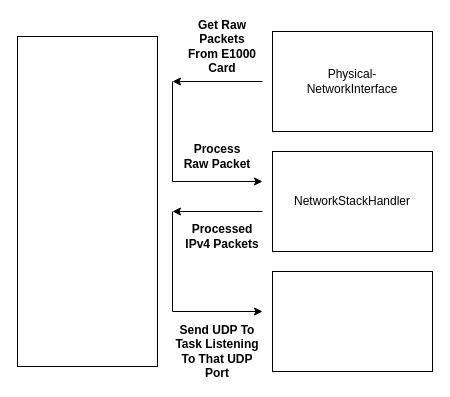
Some shapes in this 450 by 397 pixel diagram are drawn without their labels. The shapes that lost their labels are listed below. From the top down, each one's centre as x and y in pixels, then its label:
At (87,201): "Network Management Task".
At (352,321): "SocketManager".
